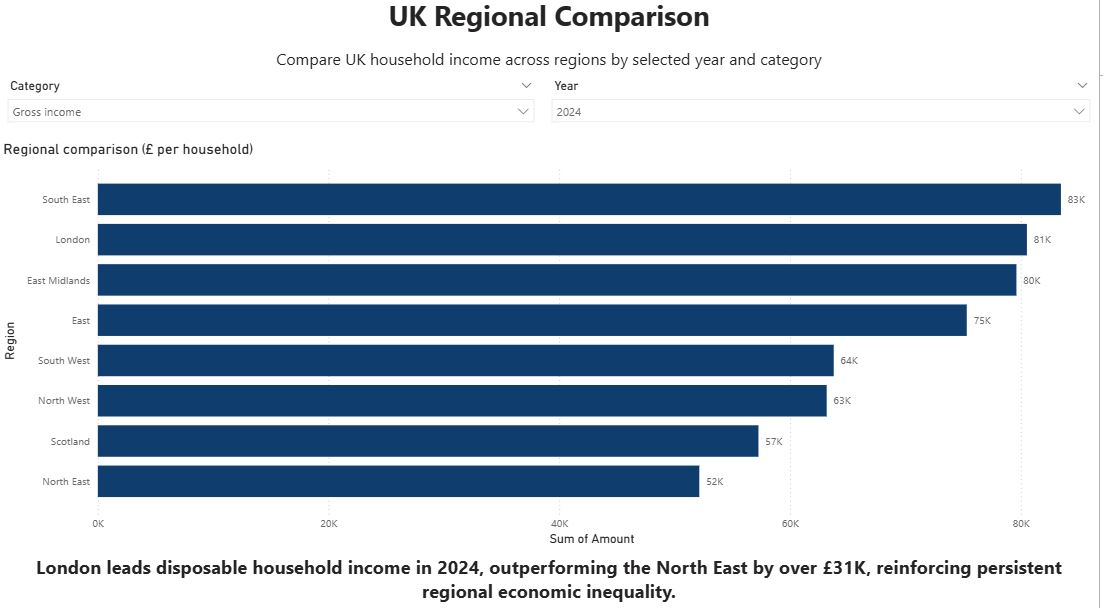

This screenshot's page, from the dashboard's own definition file:
{"tool":"powerbi","page":{"name":"Page 2","canvas":[1280,720],"ordinal":1},"visuals":[{"type":"slicer","fields":{"Values":["Append1.Category"]},"box":[0,96.6,633,75.6],"z":0},{"type":"textbox","box":[0,0,1280,96.6],"z":1000},{"type":"clusteredBarChart","title":"Regional comparison  (£ per household)","fields":{"Category":["Append1.Region"],"Y":["Sum(Append1.Amount)"]},"box":[0,172.2,1280,477.1],"z":6000},{"type":"slicer","fields":{"Values":["Append1.Year"]},"box":[633,96.6,647,75.6],"z":6001},{"type":"textbox","box":[0,649.3,1280,71],"z":6002}]}

Visuals, with their boxes in screenshot pixels (x1, y1, x2, y2), scaled from the page's 1280x720 canvas onto the 1103x608 screenshot:
slicer - Append1.Category: [0, 82, 545, 145]
textbox: [0, 0, 1102, 82]
"Regional comparison  (£ per household)" clusteredBarChart: [0, 145, 1102, 548]
slicer - Append1.Year: [545, 82, 1102, 145]
textbox: [0, 548, 1102, 607]
